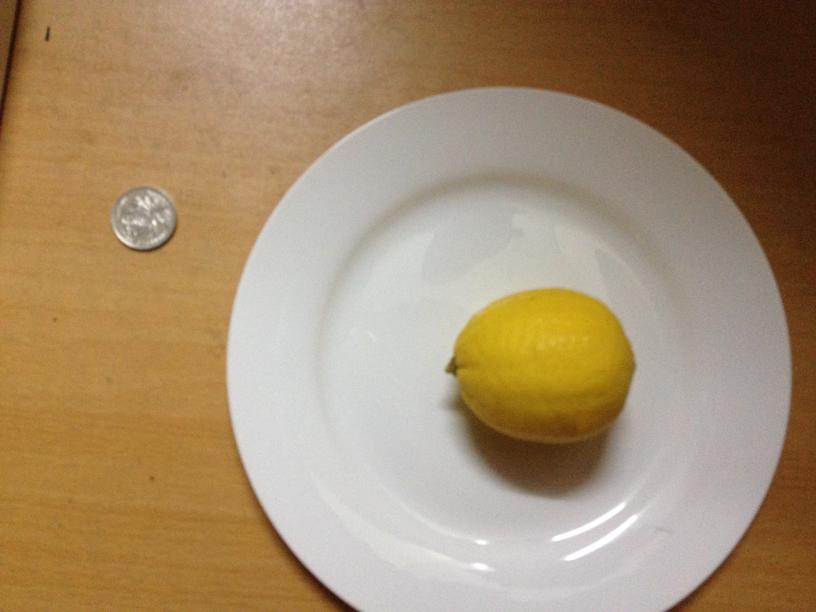coin: (108, 187, 178, 253)
lemon: (449, 286, 635, 444)
